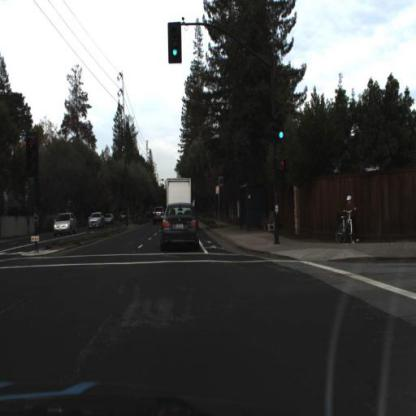car: (162, 205, 200, 251), (53, 210, 77, 237), (87, 210, 107, 231), (152, 203, 166, 228), (152, 204, 165, 225)
pedestrian: (344, 196, 359, 245)
trafficLight-Green: (167, 20, 185, 69), (275, 115, 289, 154)
truck: (164, 177, 195, 210)
